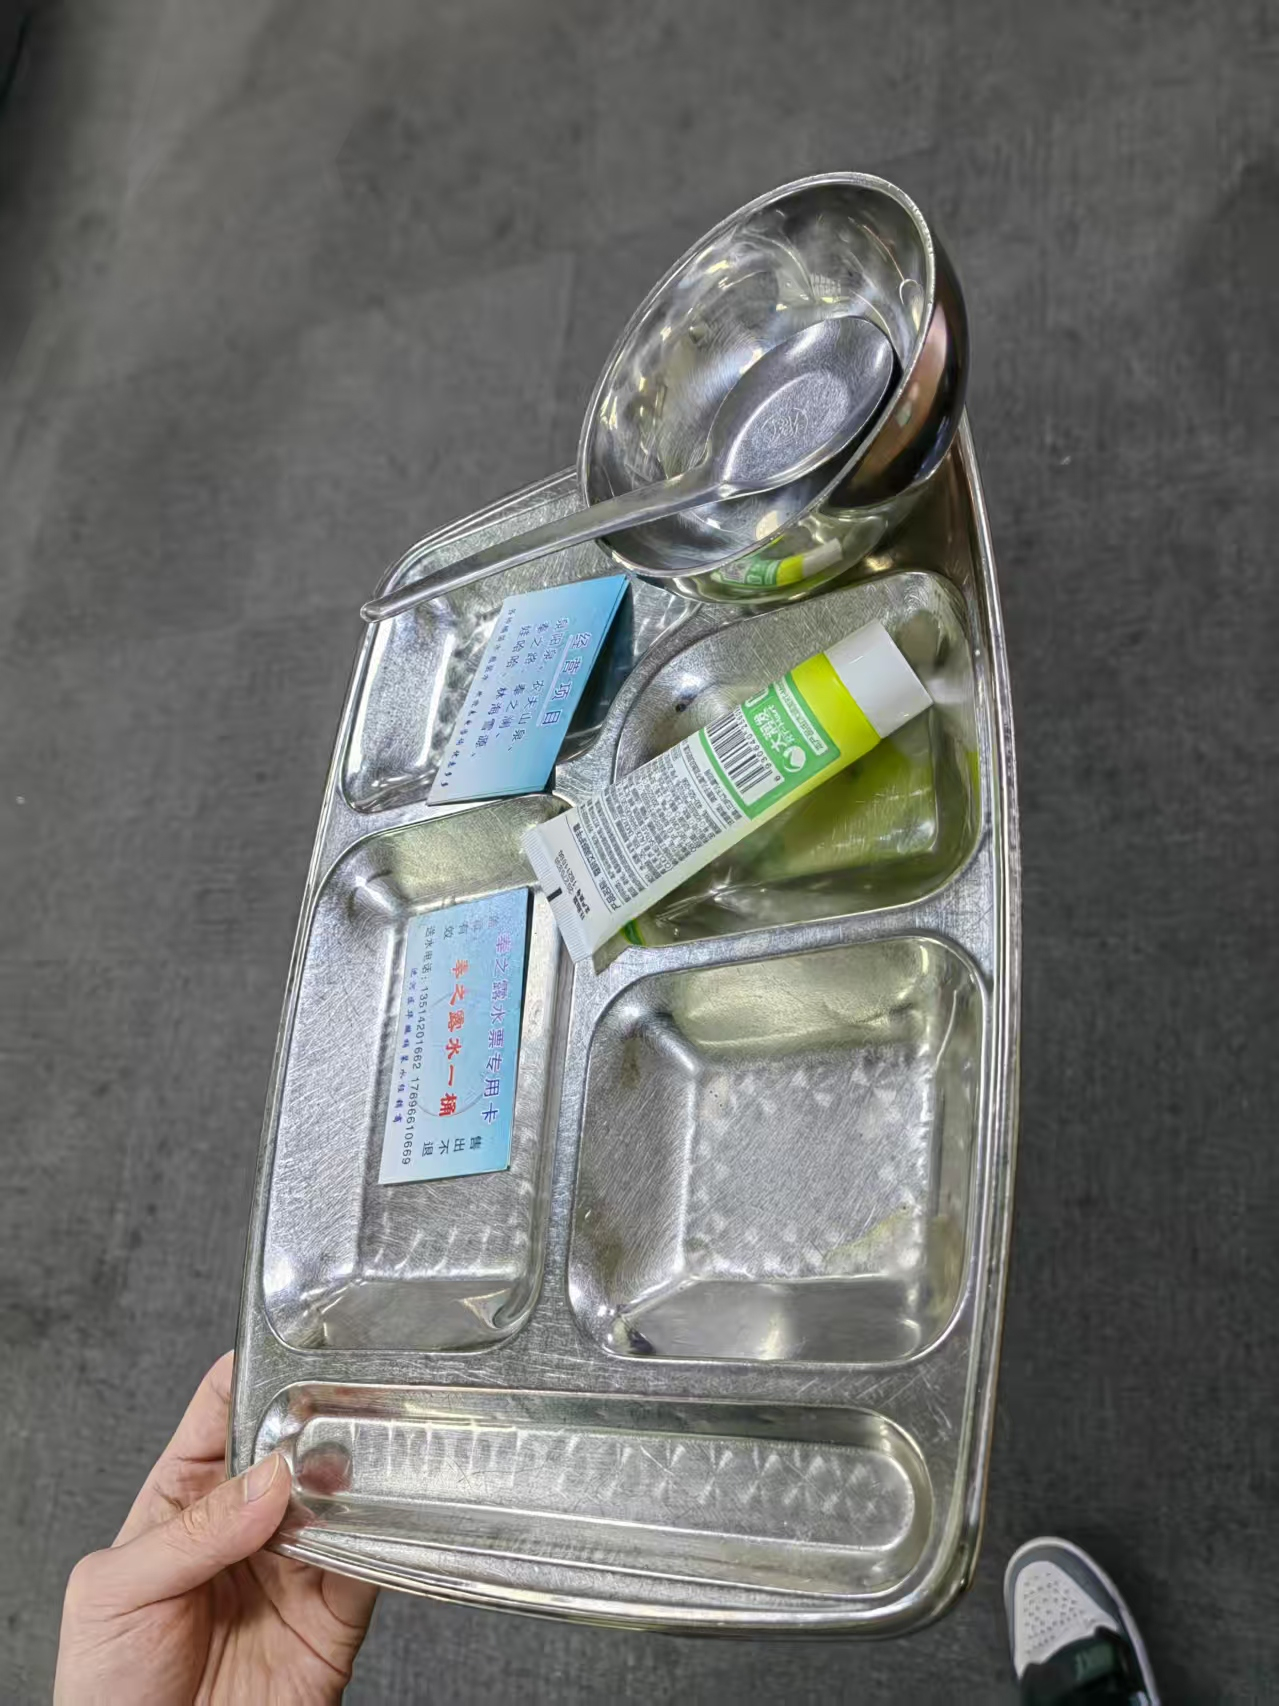mild: (377, 572, 934, 1188)
plate: (228, 364, 1021, 1641)
